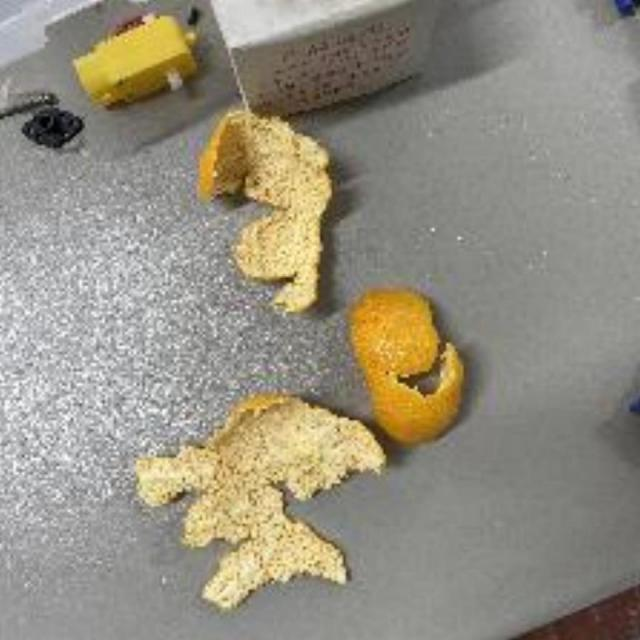orange peel: (131, 400, 391, 602), (196, 107, 336, 316), (339, 278, 472, 454)
